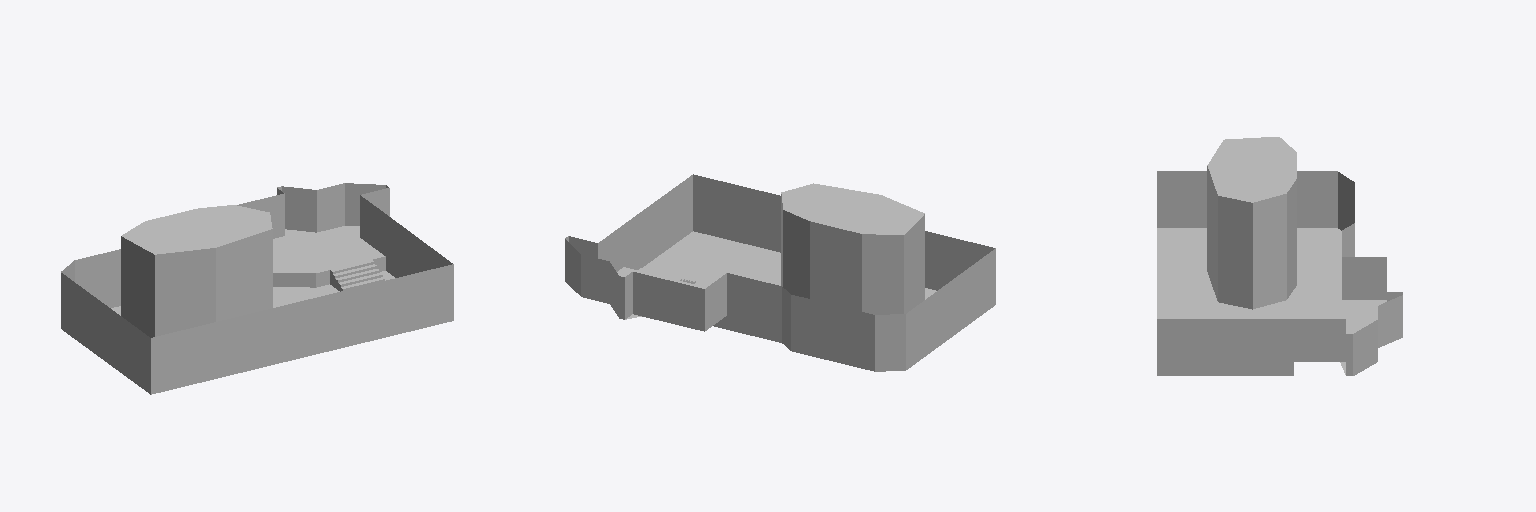
The model's file is doom.obj.
The picture shows the model from 3 angles: view 1: azimuth 30°, elevation 25°; view 2: azimuth 150°, elevation 25°; view 3: azimuth 270°, elevation 25°; orthographic projection.
Parts seen in each view (by area): view 1: Plane; view 2: Plane; view 3: Plane.
Boxes of the visible parts, x1,y1,x2,y2 form: Plane: [61, 183, 453, 394]; Plane: [565, 174, 995, 371]; Plane: [1157, 137, 1402, 375].
Size of the model in its own units: 48.99 by 15 by 31.26.